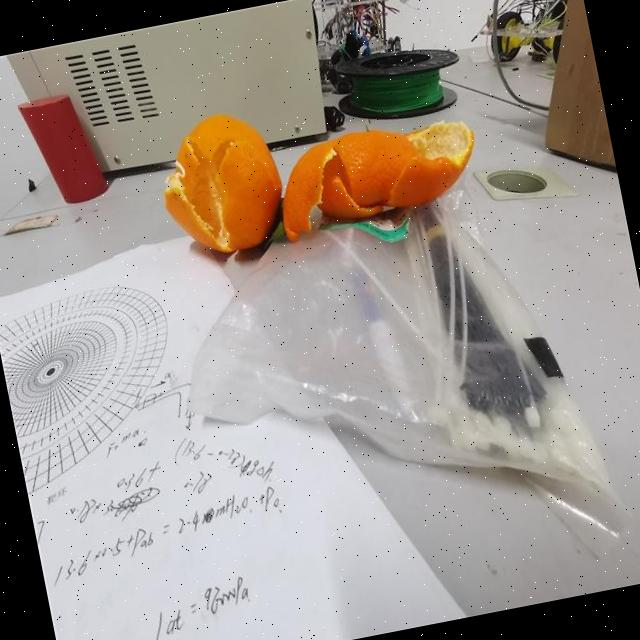orange-peel: (268, 108, 487, 243), (148, 102, 292, 264)
